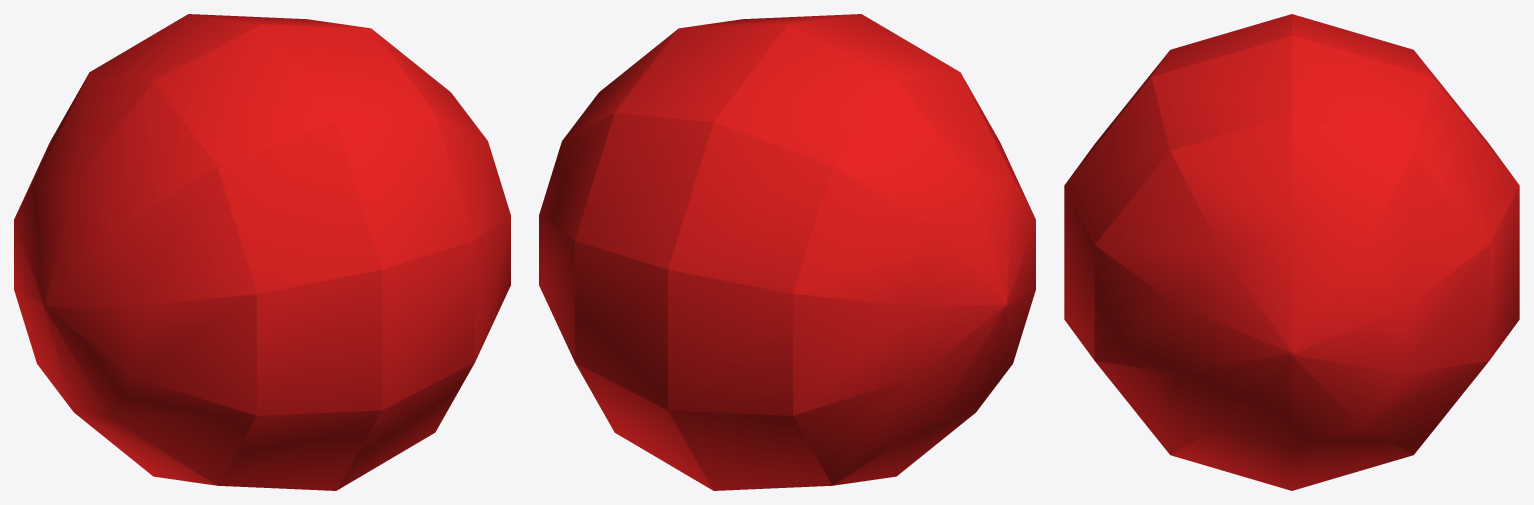
The model's file is left_nav_light.obj.
3 renders of one model, left to right at view 1: azimuth 30°, elevation 25°; view 2: azimuth 150°, elevation 25°; view 3: azimuth 270°, elevation 25°, orthographic. The views are drawn at different scales.
Parts seen in each view (by area): view 1: left_nav_light; view 2: left_nav_light; view 3: left_nav_light.
Boxes of the visible parts, <box> form: left_nav_light: <box>14,14,510,490</box>; left_nav_light: <box>539,14,1035,490</box>; left_nav_light: <box>1064,14,1519,490</box>.
Size of the model in its own units: 0.016 by 0.016 by 0.0152.
